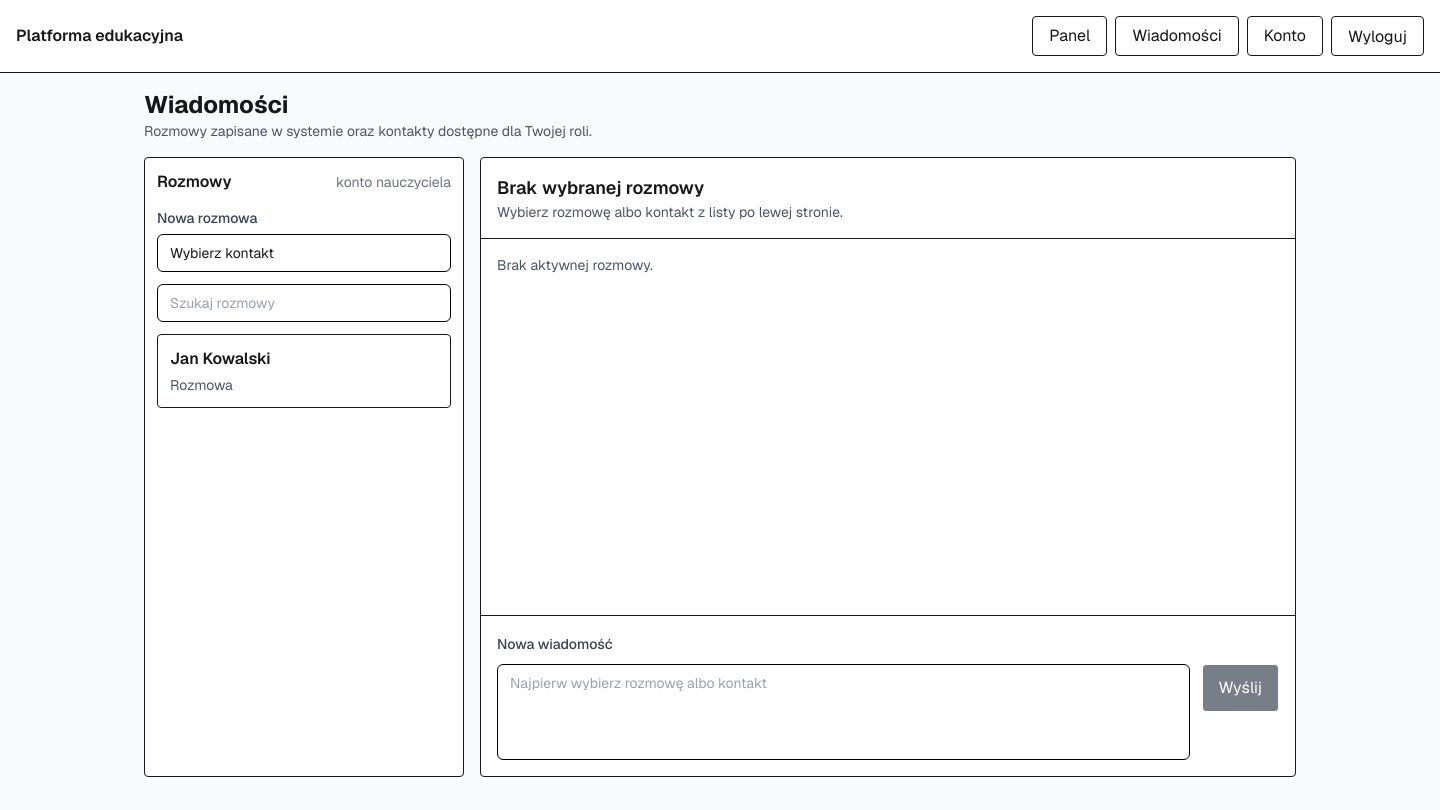
Scenario: MessagesPage › loads teacher conversations and sends a new message
Click the button "Jan Kowalski Rozmowa": (220, 358) [157,334,451,408]
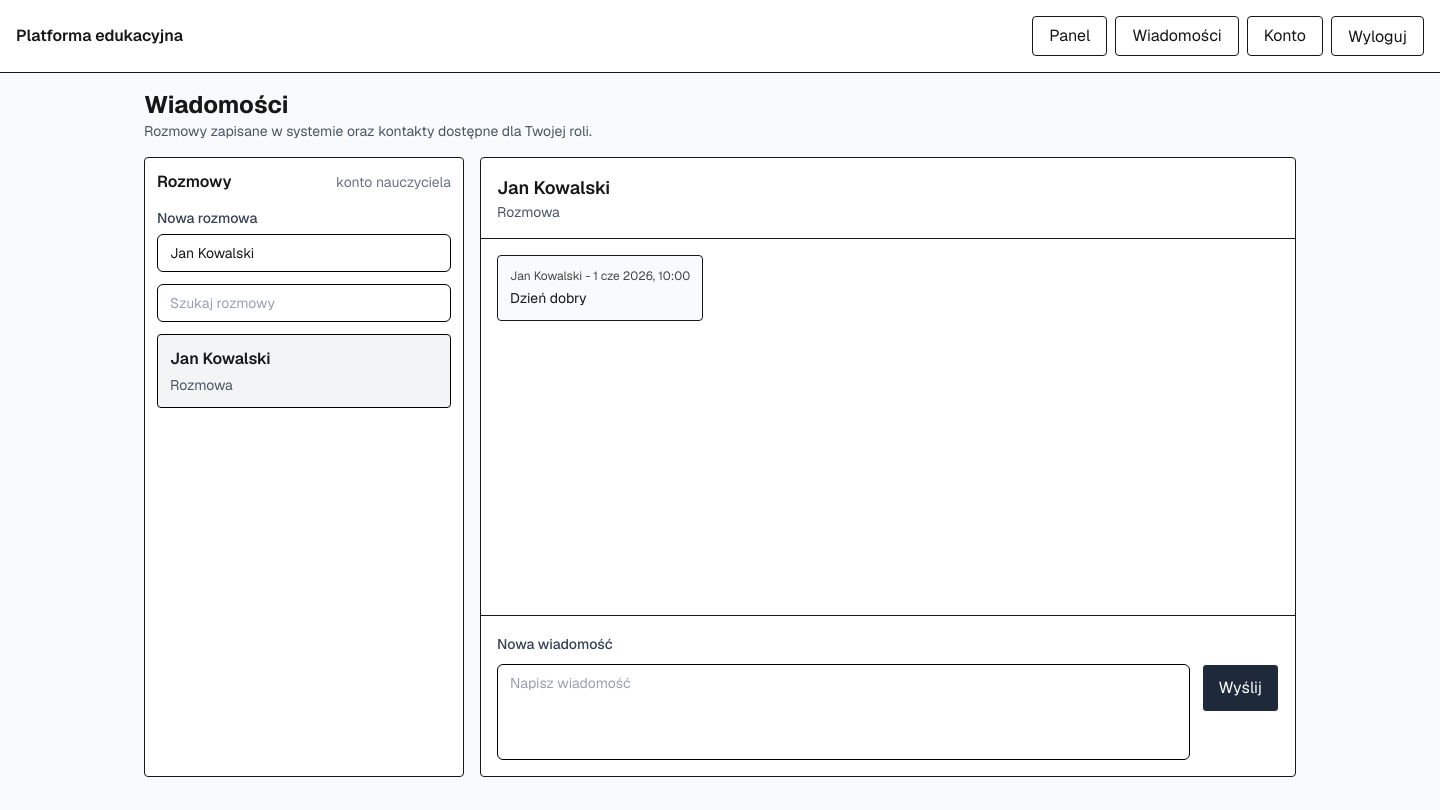
Expected: the text "Dzień dobry" is shown, [510,289,587,307]
Expected: the text box labelled "Nowa wiadomość" is enabled
In the text box labelled "Nowa wiadomość": (843, 712) [497,664,1190,760], type "Odpowiedź nauczyciela"
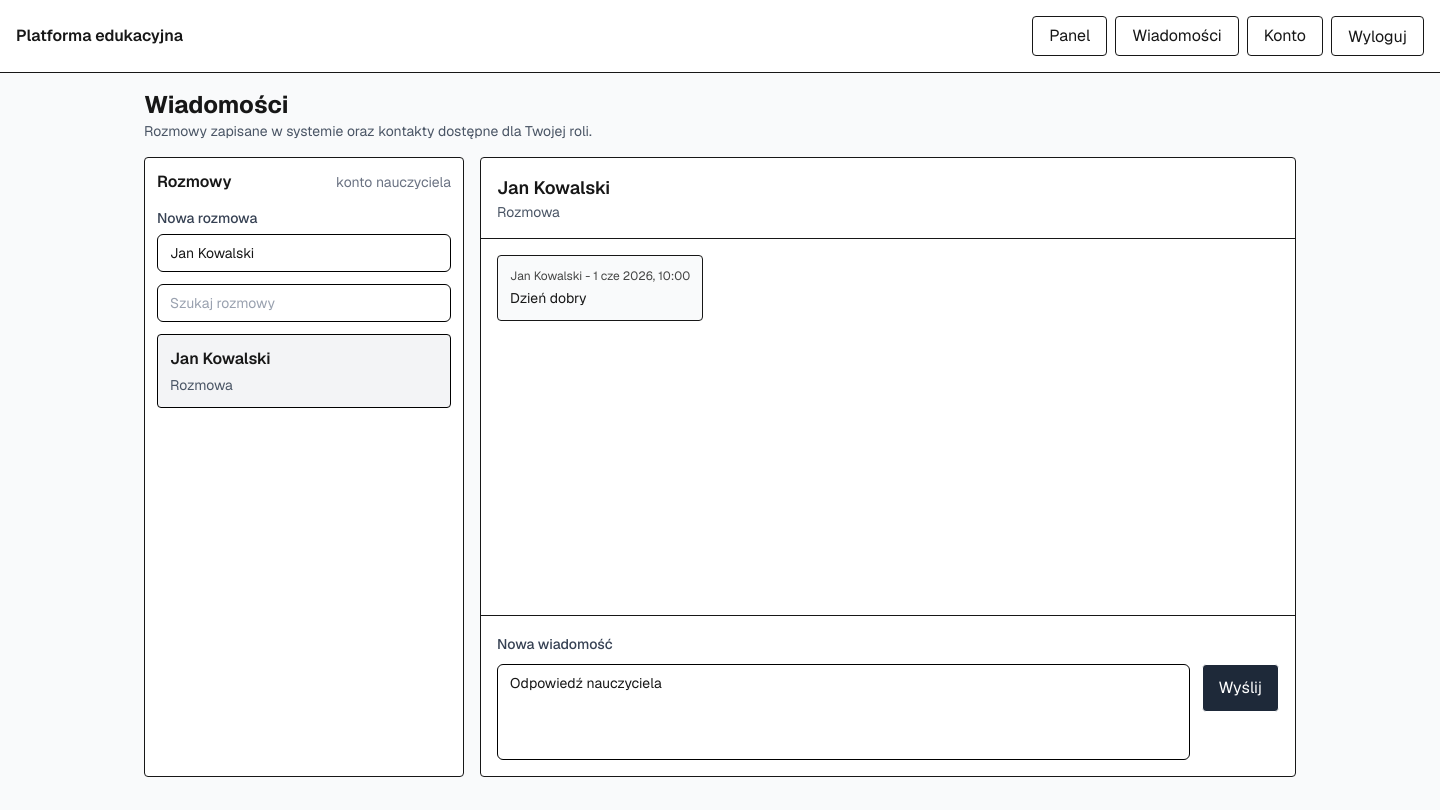
Click the button "Wyślij": (1240, 688) [1202,664,1279,712]
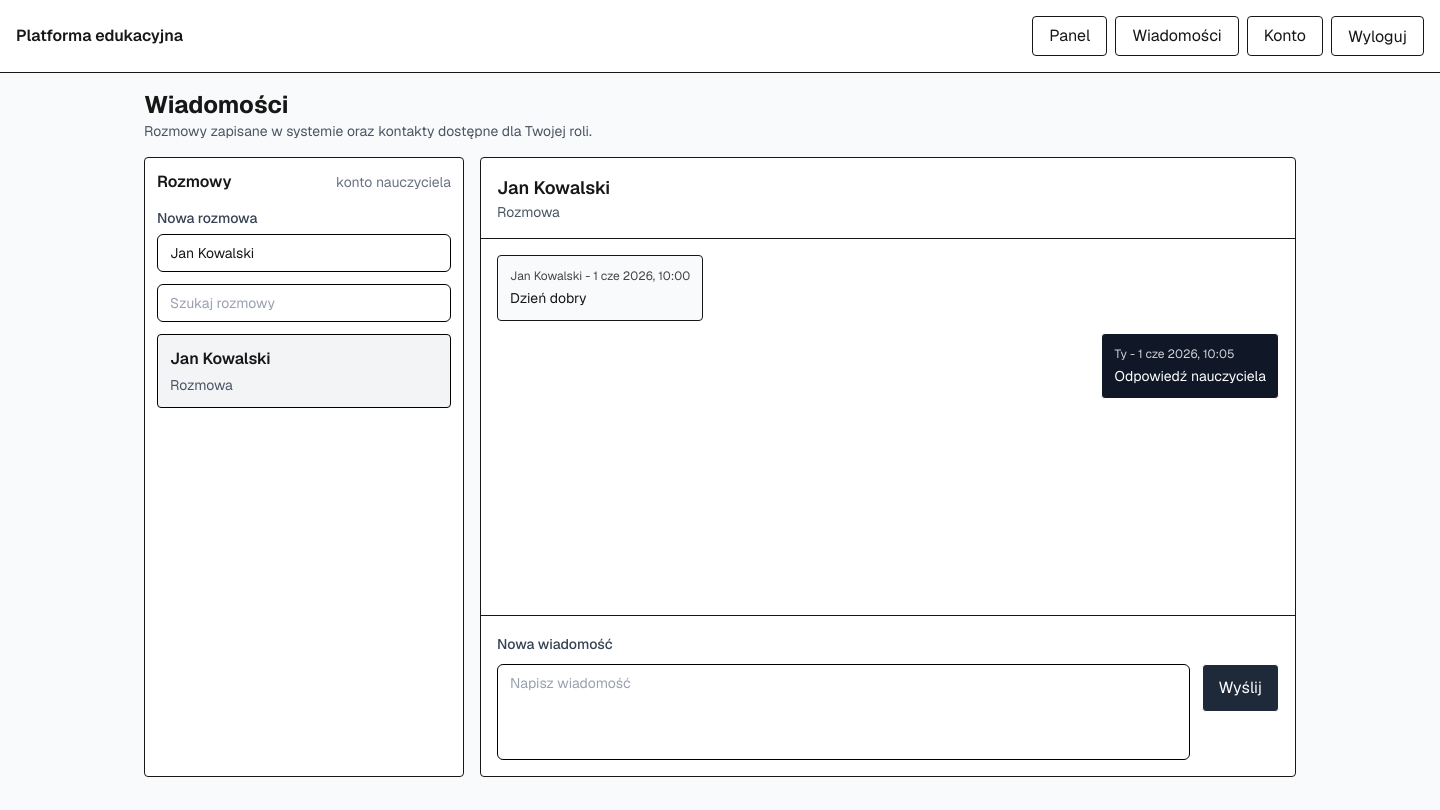
Expected: the text "Odpowiedź nauczyciela" is shown, [1114,366,1266,386]
